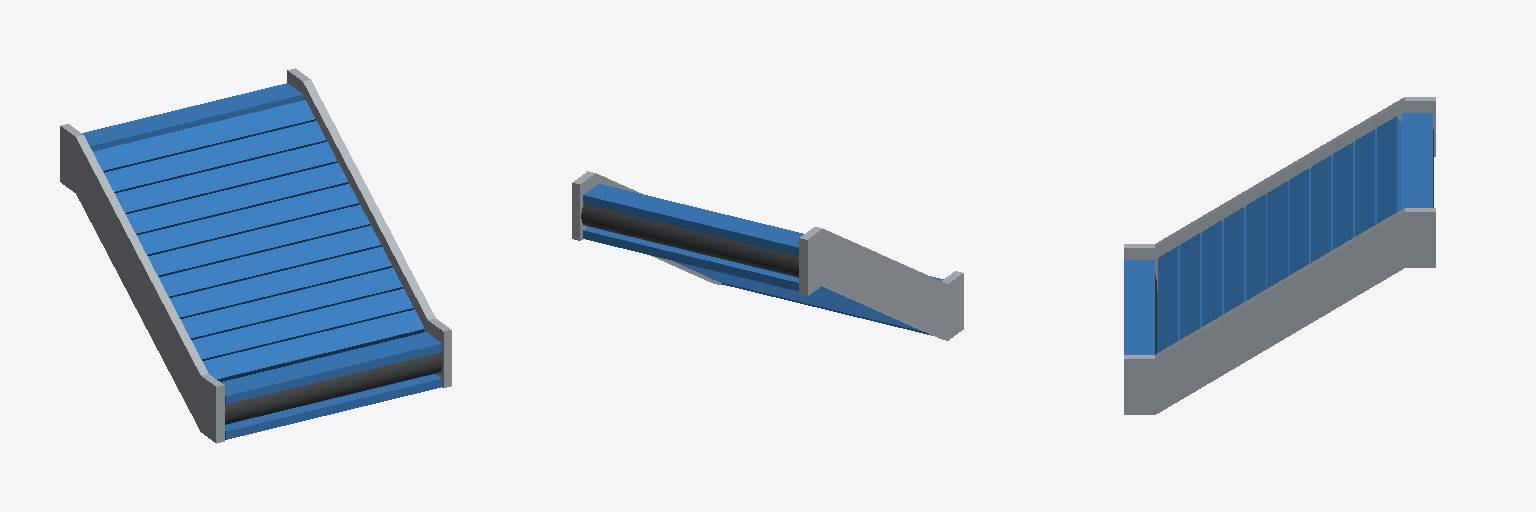
3 renders of one model, left to right at view 1: azimuth 30°, elevation 25°; view 2: azimuth 150°, elevation 25°; view 3: azimuth 270°, elevation 25°, orthographic.
Parts seen in each view (by area): view 1: Cylinder.005; view 2: Cylinder.005; view 3: Cylinder.005.
Boxes of the visible parts, <box> form: Cylinder.005: <box>60,68,451,443</box>; Cylinder.005: <box>572,171,963,340</box>; Cylinder.005: <box>1124,97,1435,414</box>.
Size of the model in its own units: 1.74 by 1.44 by 2.
1 materials, 1 textured.